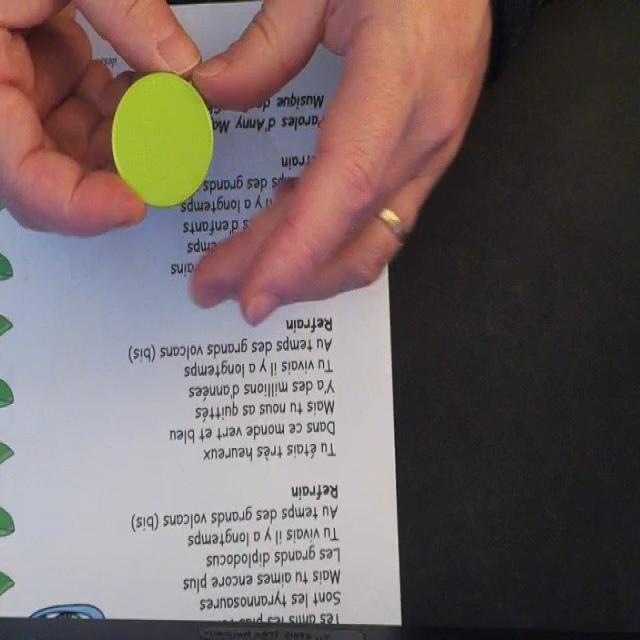round: (110, 72, 216, 210)
